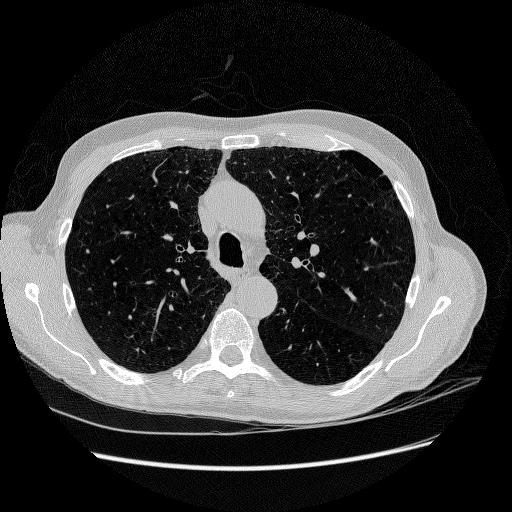nodule: (83, 247, 93, 257)
